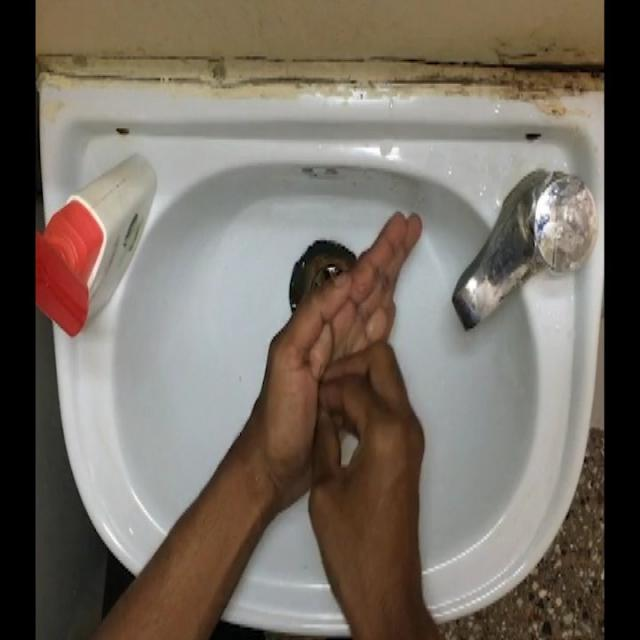step_6: (256, 203, 435, 600)
